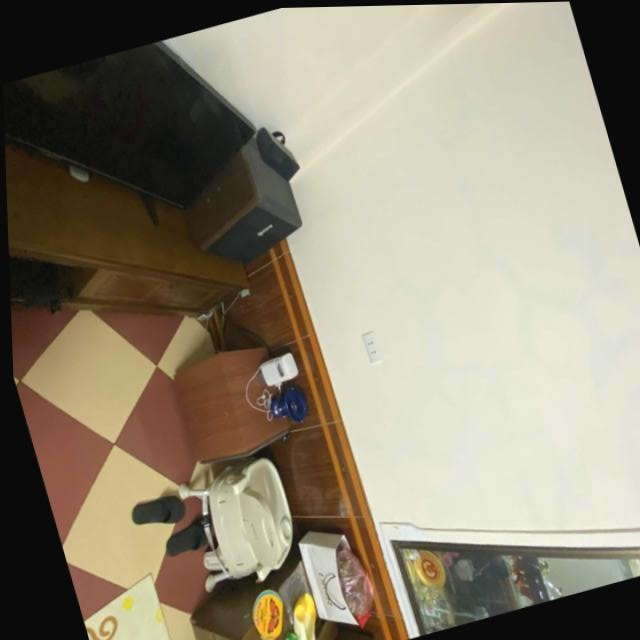outlet: (362, 330, 384, 364)
